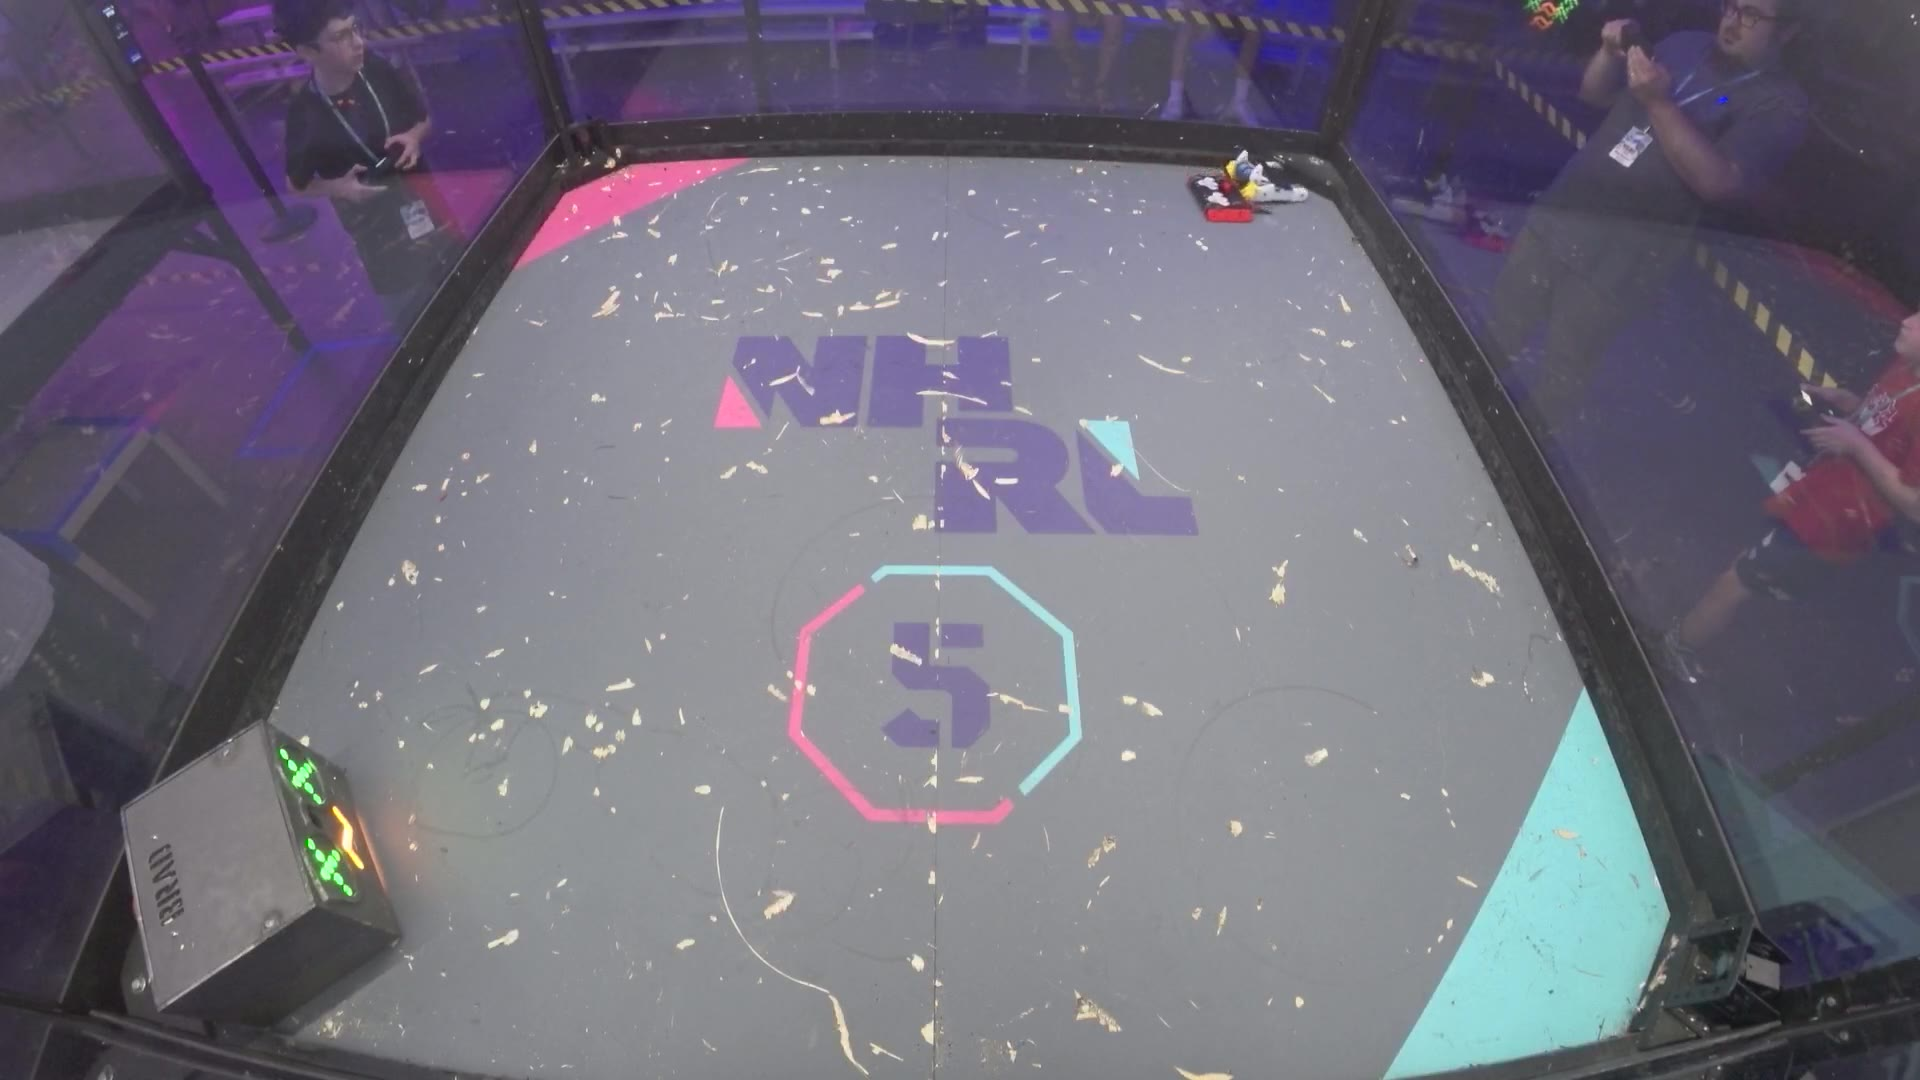combatbot: (1221, 152, 1309, 203), (1188, 171, 1266, 222)
housebot: (117, 723, 404, 1033)
